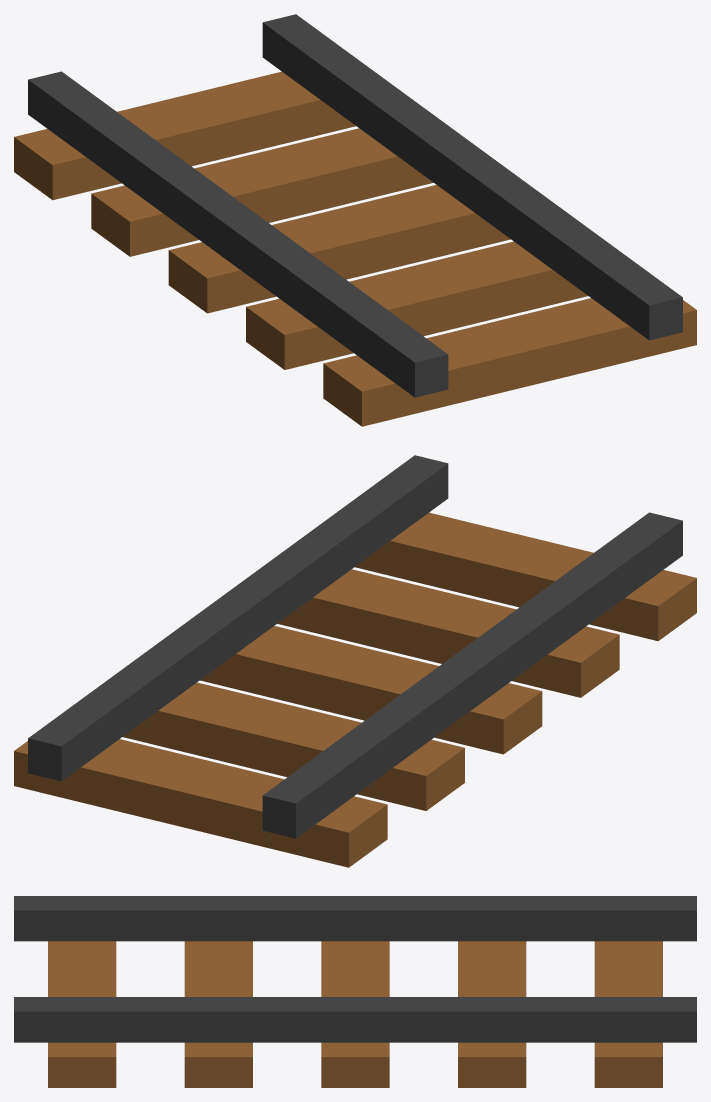
Rendered from rail.obj.
The picture shows the model from 3 angles, top to bottom: view 1: azimuth 30°, elevation 25°; view 2: azimuth 150°, elevation 25°; view 3: azimuth 270°, elevation 25°; orthographic projection. The views are drawn at different scales.
Size of the model in its own units: 10 by 2 by 20.
Materials: 1 (1 with a texture image).
